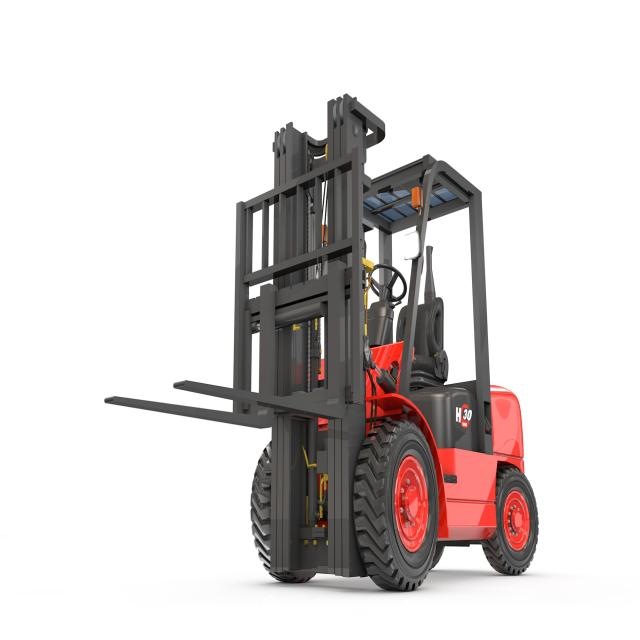forklift: (103, 92, 538, 590)
